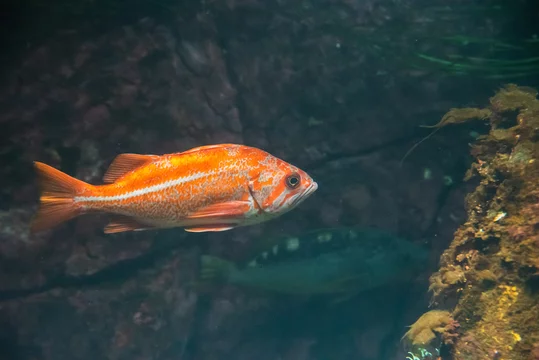Rock Fish: (14, 133, 332, 257)
